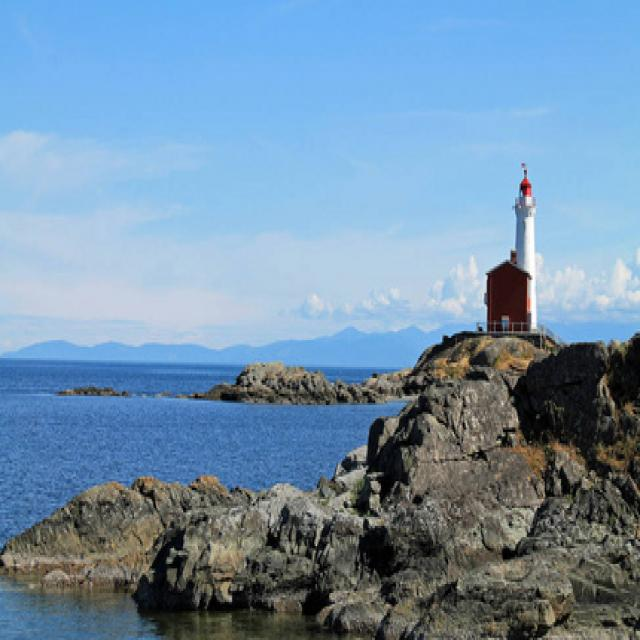reef: (22, 450, 561, 640), (64, 364, 426, 401)
